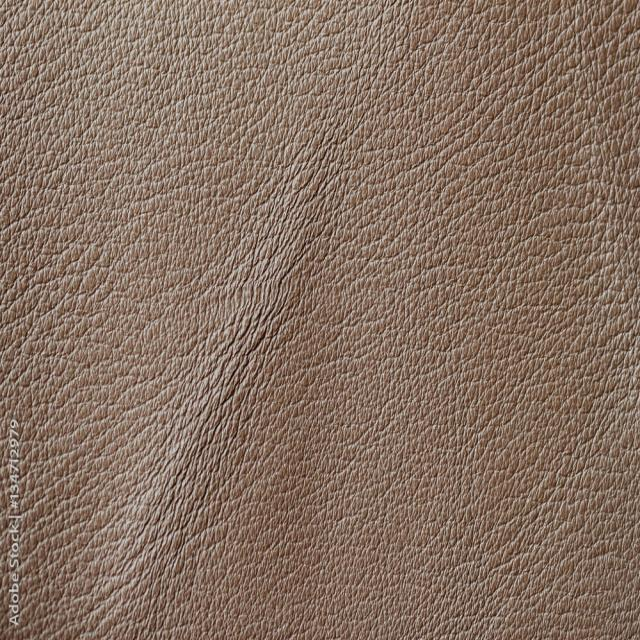Crease: (165, 161, 306, 497)
